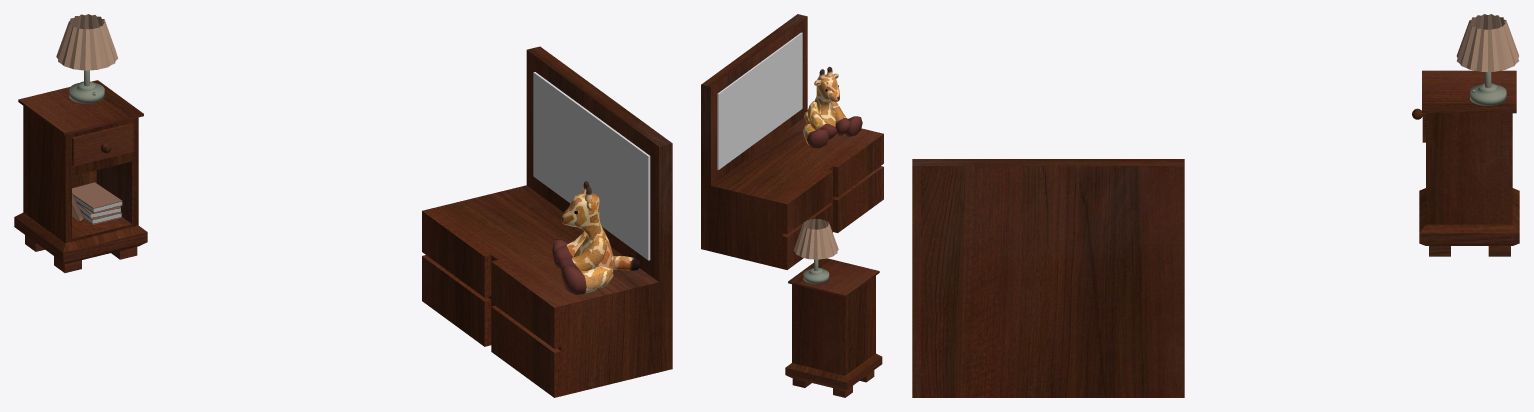
File: KidsRoomObjects.fbx
3 renders of one model, left to right at view 1: azimuth 30°, elevation 25°; view 2: azimuth 150°, elevation 25°; view 3: azimuth 270°, elevation 25°, orthographic. The views are drawn at different scales.
Parts seen in each view (by area): view 1: Cube, Bedside table, Cube.001, KidsRoomLamp; view 2: Cube, Bedside table, Cube.001, KidsRoomLamp; view 3: Cube, Bedside table, KidsRoomLamp.
Boxes of the visible parts, <box> form: Cube: <box>422,46,672,397</box>; Bedside table: <box>14,80,147,272</box>; Cube.001: <box>552,181,640,294</box>; KidsRoomLamp: <box>56,14,118,103</box>; Cube: <box>701,14,883,269</box>; Bedside table: <box>785,258,882,397</box>; Cube.001: <box>803,66,862,148</box>; KidsRoomLamp: <box>793,218,838,283</box>; Cube: <box>912,159,1184,397</box>; Bedside table: <box>1412,70,1519,256</box>; KidsRoomLamp: <box>1456,14,1518,105</box>.
Size of the model in its own units: 0.4926 by 0.2942 by 0.6943.
